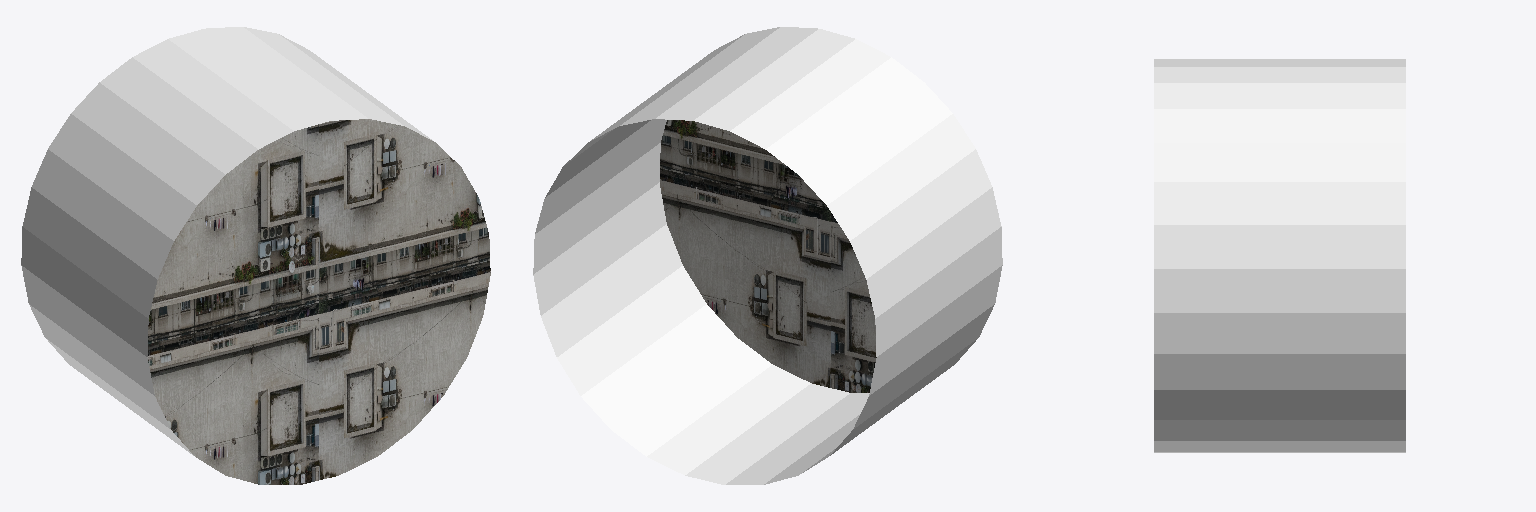
3 views of the same model, side by side, from view 1: azimuth 30°, elevation 25°; view 2: azimuth 150°, elevation 25°; view 3: azimuth 270°, elevation 25° (orthographic).
Visible parts, largest first — view 1: Building; view 2: Building; view 3: Building.
Boxes of the visible parts, x1,y1,x2,y2 form: Building: [21, 27, 490, 484]; Building: [533, 27, 1002, 484]; Building: [1154, 59, 1405, 452].
Bounding box in the file's own units: 42.39 × 42.1 × 27.
Materials: 2 (1 with a texture image).